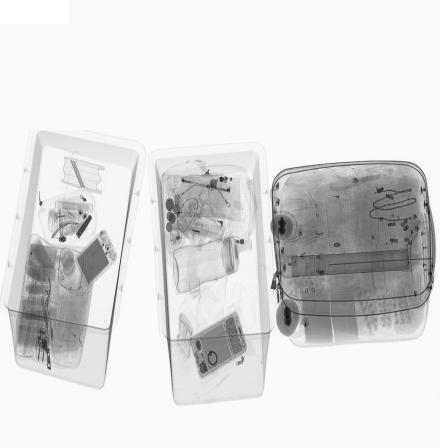Knife: (70, 159, 86, 189)
